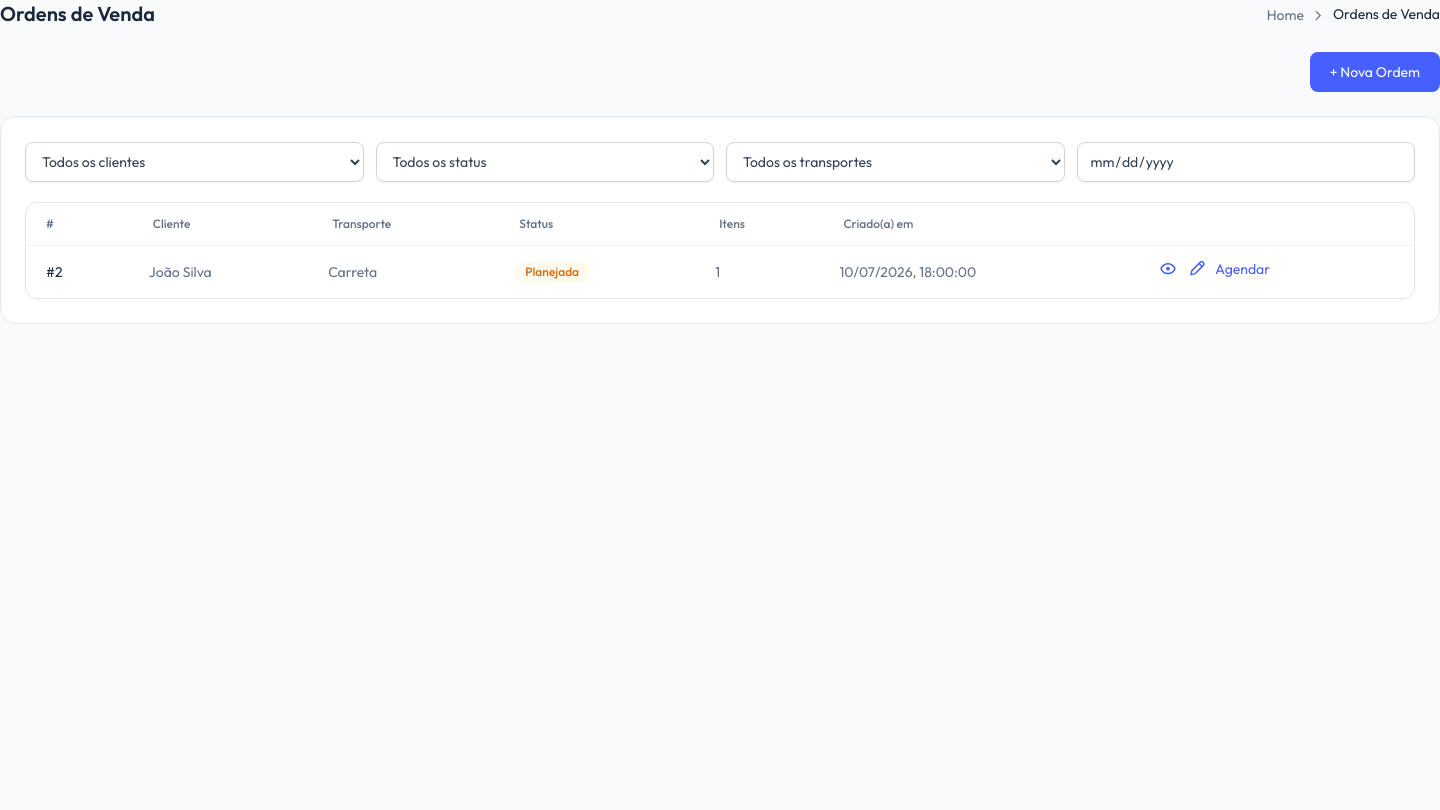
Test: agendamento › abre o modal de agendamento ao clicar em Agendar
Step 1. Click the button "Agendar" → [1243, 268], box [1215,258,1270,278]
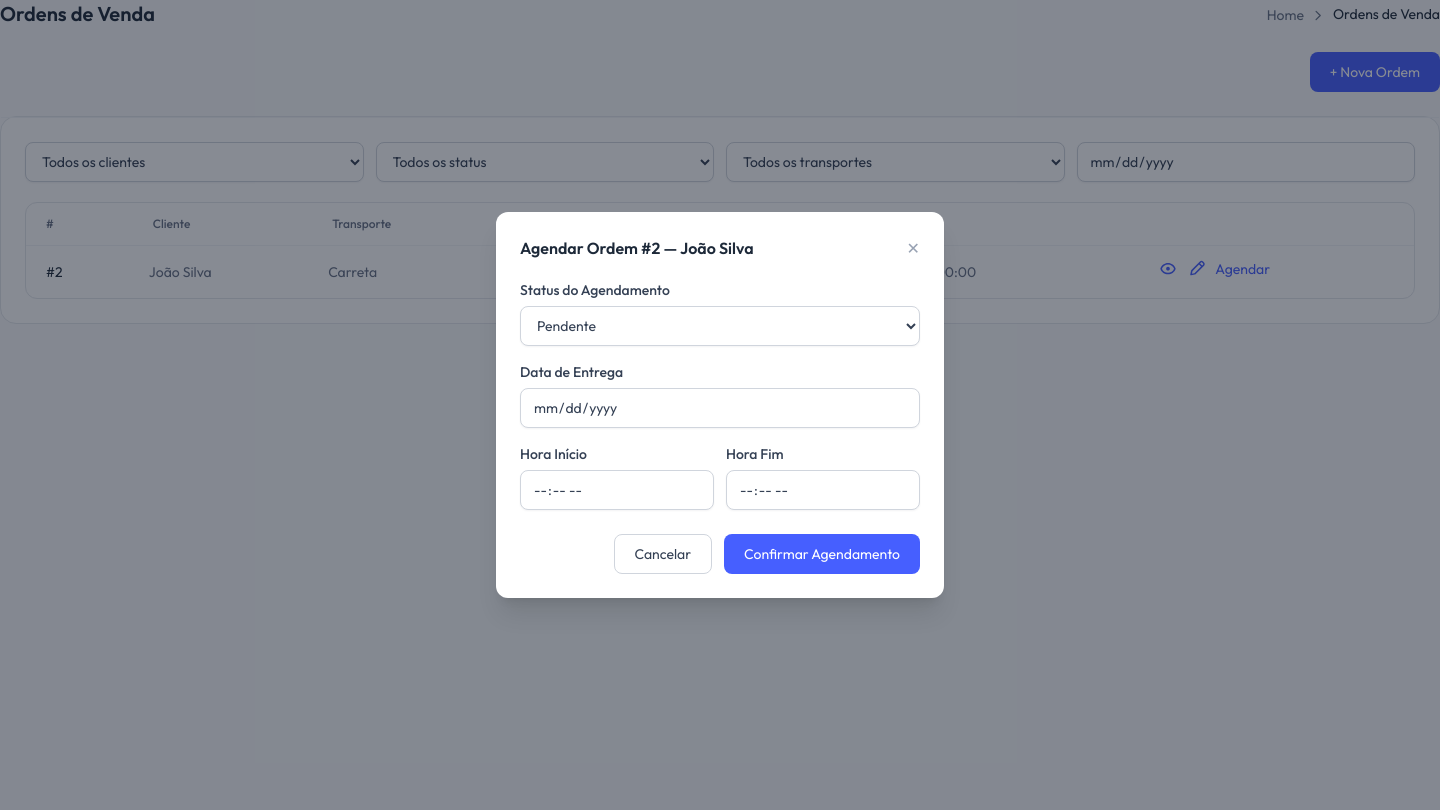
Now the heading "Agendar Ordem #2 — João Silva" is shown, box [520,236,754,260]
